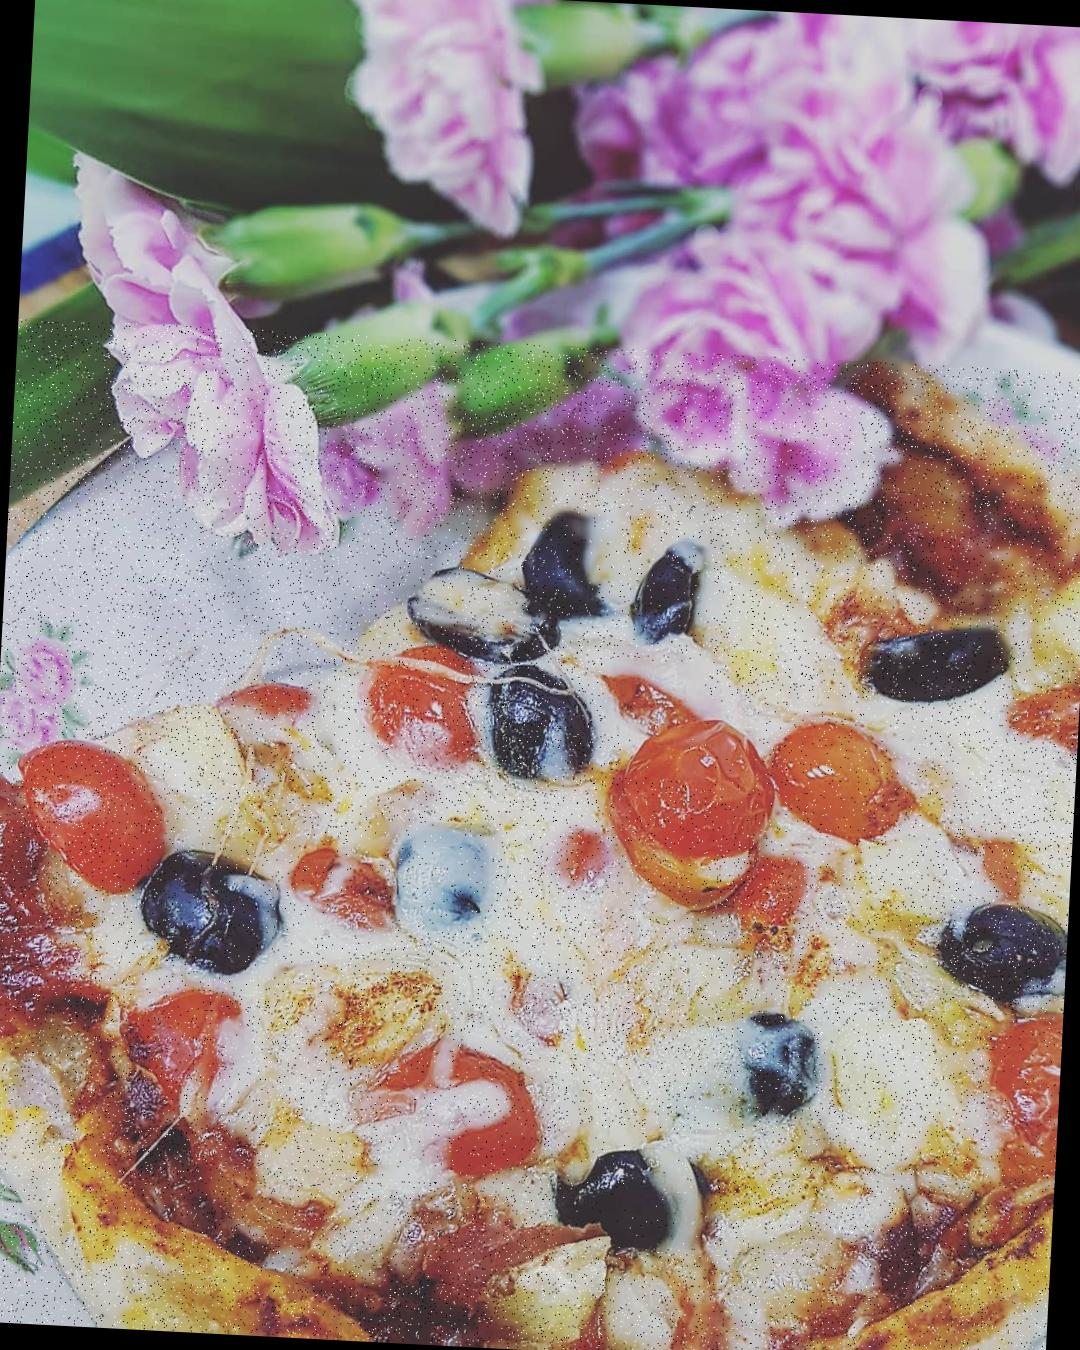Olives: (129, 833, 310, 991), (465, 647, 609, 802), (554, 1125, 719, 1251), (925, 879, 1069, 1022), (399, 557, 572, 674), (852, 613, 1027, 712), (507, 506, 624, 630), (728, 986, 824, 1131), (386, 822, 495, 933), (627, 538, 716, 650)
Pizza: (0, 318, 1080, 1350)
Tomatoes: (367, 1014, 551, 1188), (0, 730, 180, 901), (756, 695, 926, 871), (616, 696, 787, 867), (581, 777, 762, 927), (354, 636, 505, 780), (125, 973, 252, 1120), (983, 1000, 1063, 1206), (284, 836, 415, 944), (930, 814, 1050, 908), (577, 657, 706, 739), (713, 840, 817, 937), (994, 662, 1080, 768), (219, 665, 315, 734)
